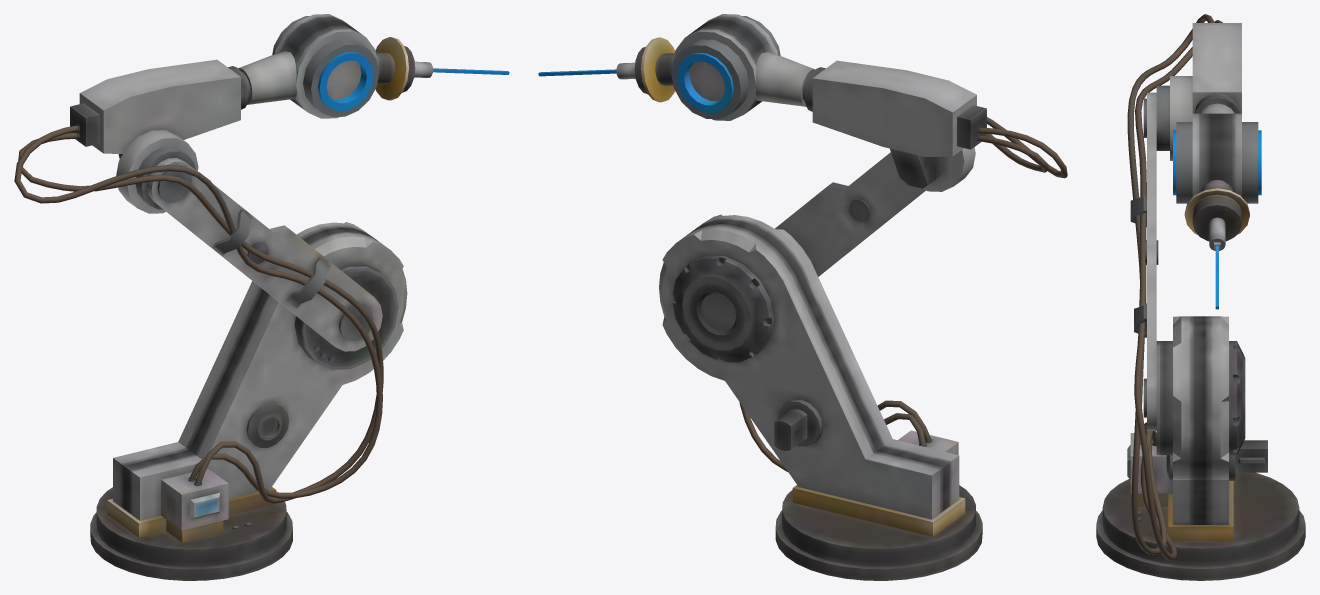
Rendered from SM_DismantlingConveyor_SM_DismantlingConveyorRobotArm_935628.glb.
3 views of the same model, side by side, from view 1: azimuth 30°, elevation 25°; view 2: azimuth 150°, elevation 25°; view 3: azimuth 270°, elevation 25° (orthographic). The views are drawn at different scales.
Bounding box in the file's own units: 3.68 × 3.3 × 1.28.
1 material, 1 textured.
